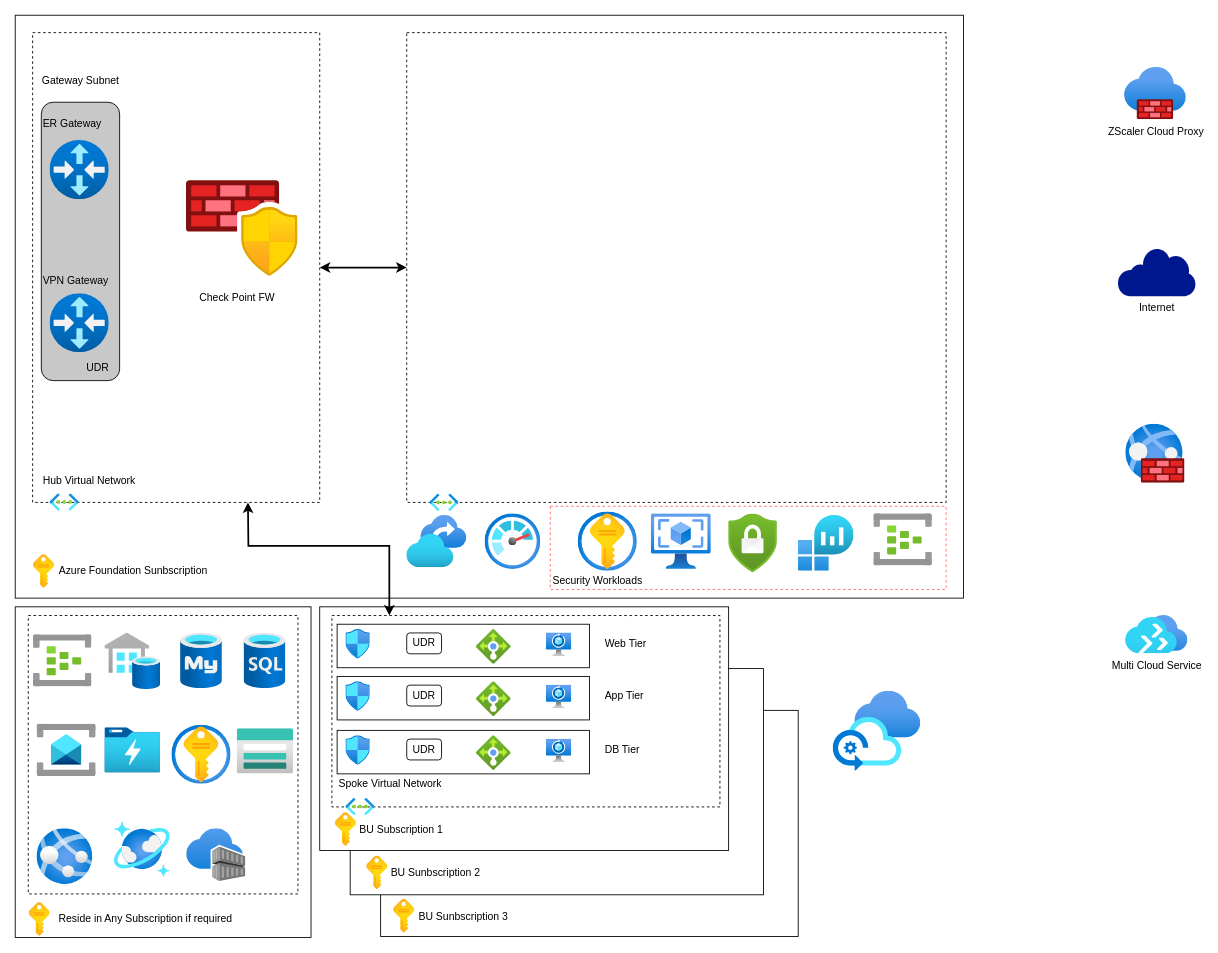
The diagram is 1218 pixels wide and 953 high, and some of its shapes have lost their labels. The shapes that lost their labels are listed below. From the top down, each one's centre as x and y in pixels, then its label:
point 676,267: Common Service Virtual Network
point 1155,453: F5 Cloud WAF
point 876,731: Microsoft Azure Infrastructure
